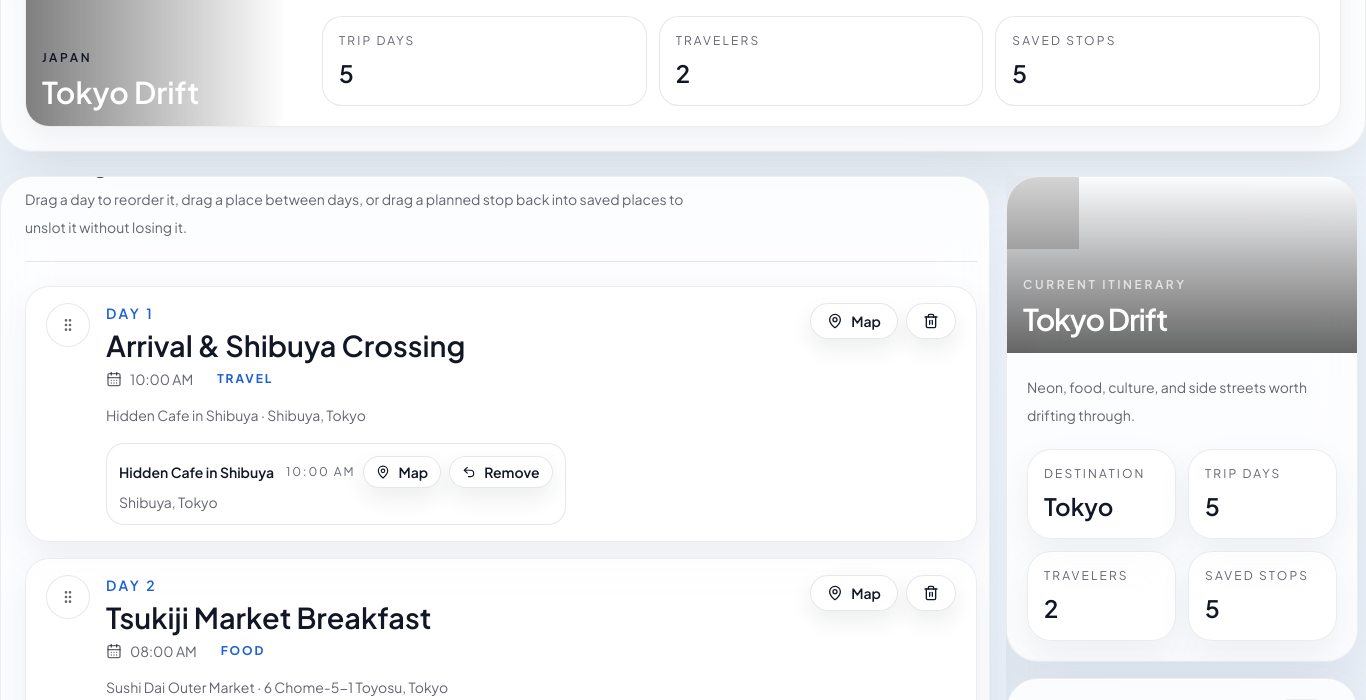
Test: TripsBoard › lets you unslot a place, adjust travelers, and keeps map links active
The width and height of the screenshot is (1366, 700).
(page scrolled)
Click the button with aria-label "remove hidden cafe in shibuya from this day" at [501, 472], box [449,456,552,488]
(page scrolled)
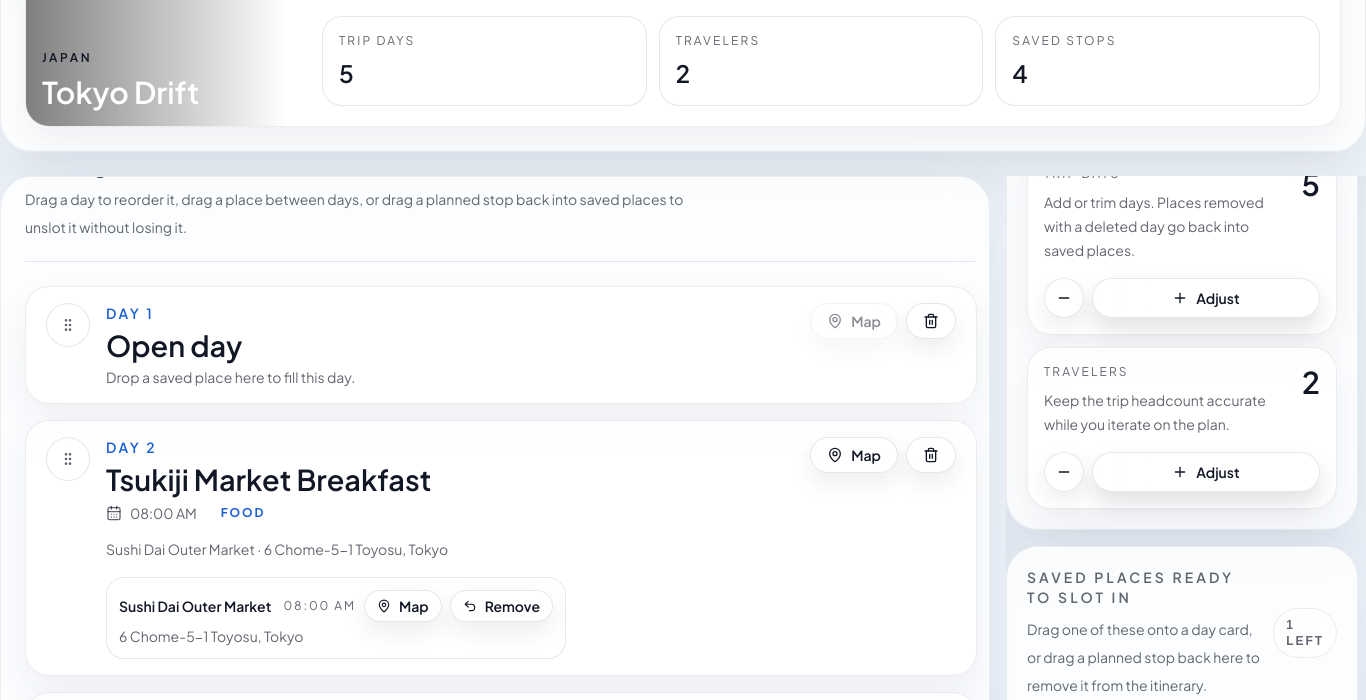
Expected: the text "1 left" is shown, [1273,608,1337,658]
Click the button with aria-label "increase travelers" at [1206, 472], box [1092,452,1320,492]
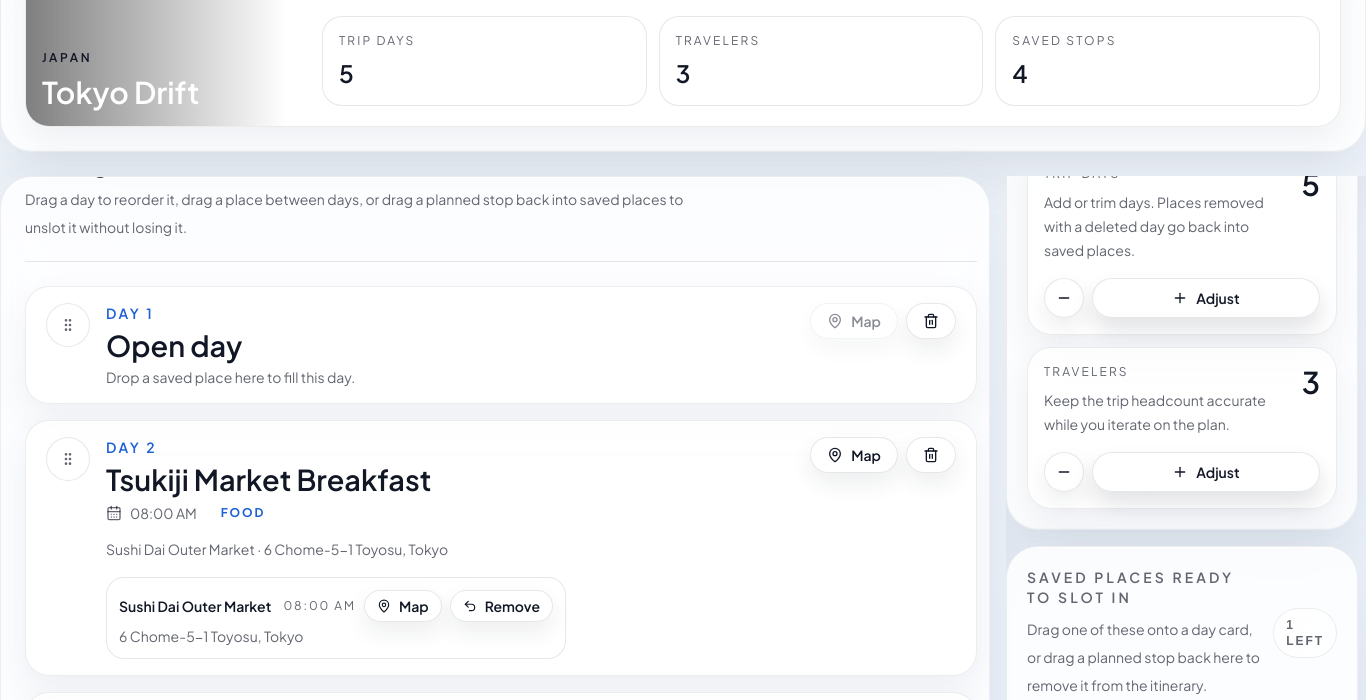
Expected: the 1st text "3" is shown, [676,58,690,88]
